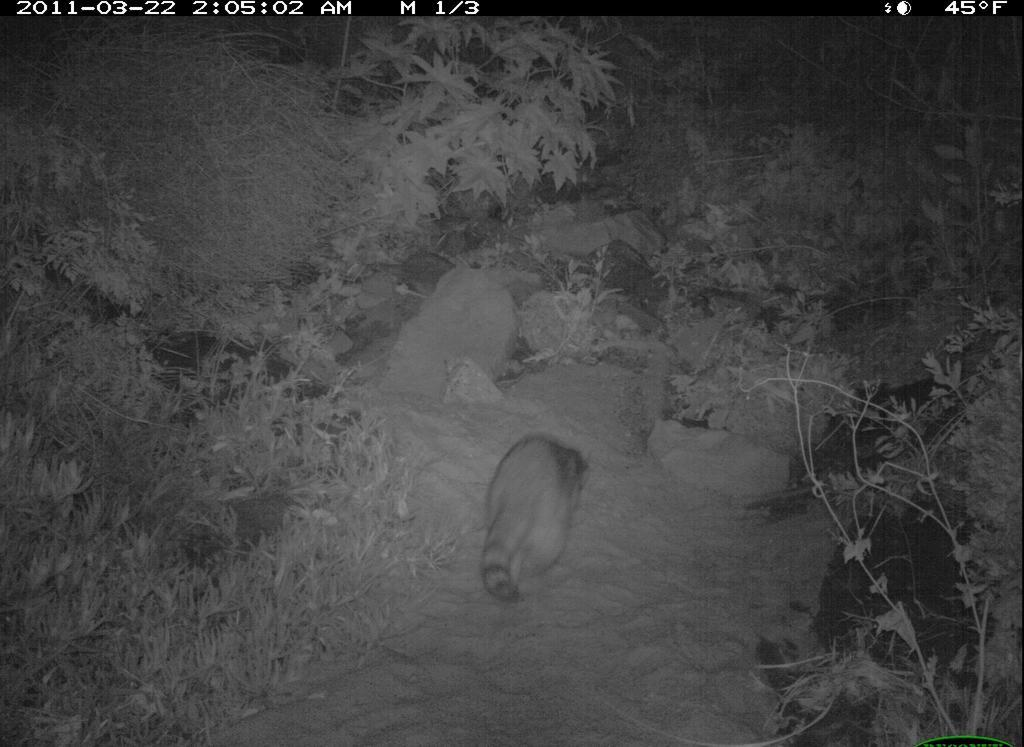raccoon: (464, 420, 617, 619)
